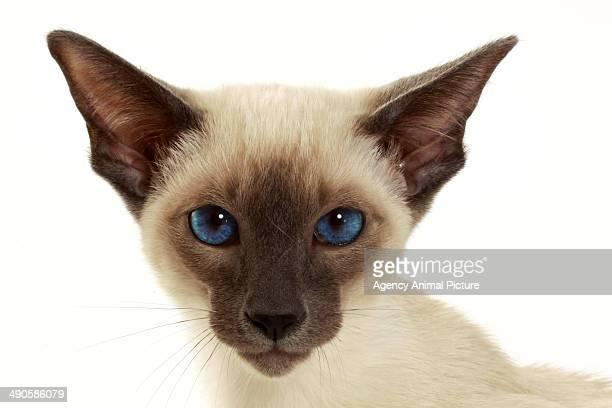siamese: (62, 22, 480, 392)
